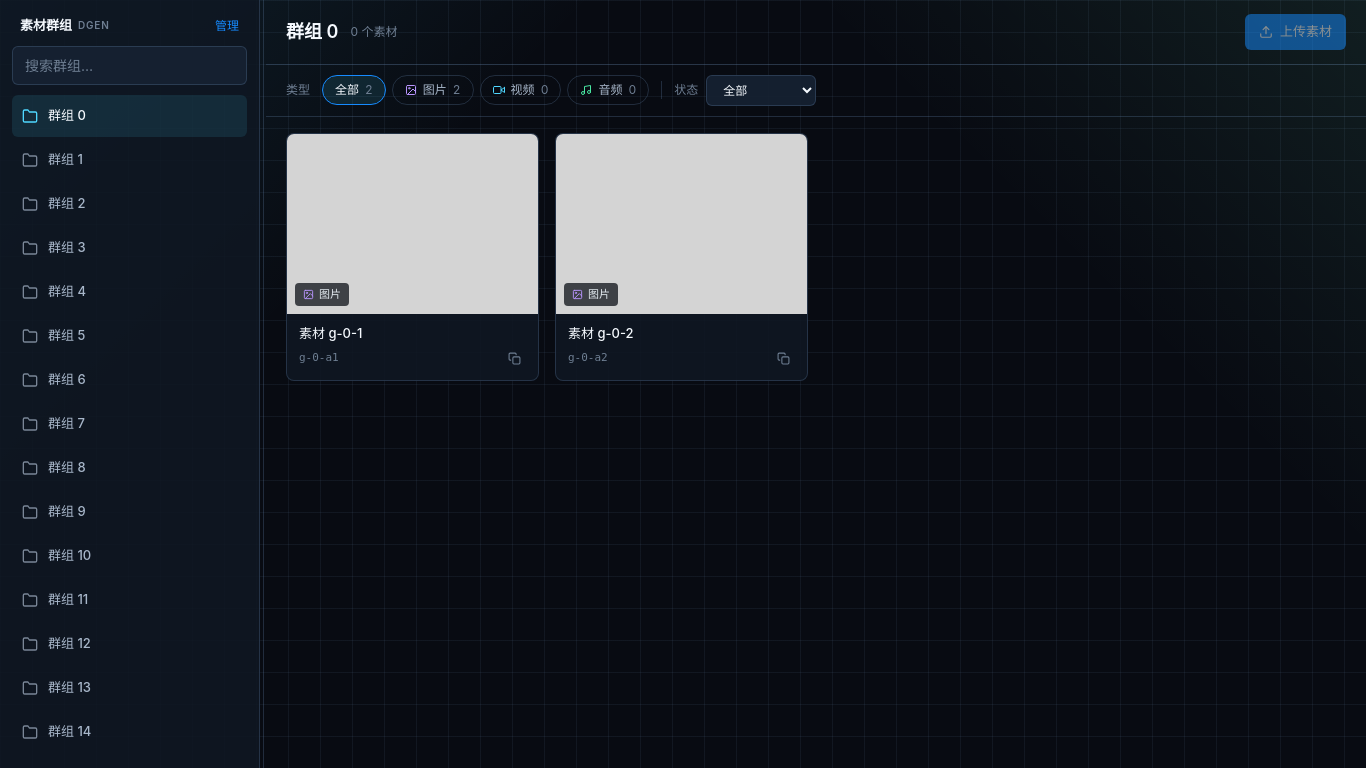
Test: server-side group search (>1000 groups) › a stale error banner + a zero-result search must not take over the page
The image size is (1366, 768).
Expected: the element with test id "group-row-g-0" is shown, x1=12 y1=94 x2=247 y2=136
In the search field labelled "搜索群组": (130, 65) x1=12 y1=46 x2=247 y2=84, type "567"
Wait 320 ms
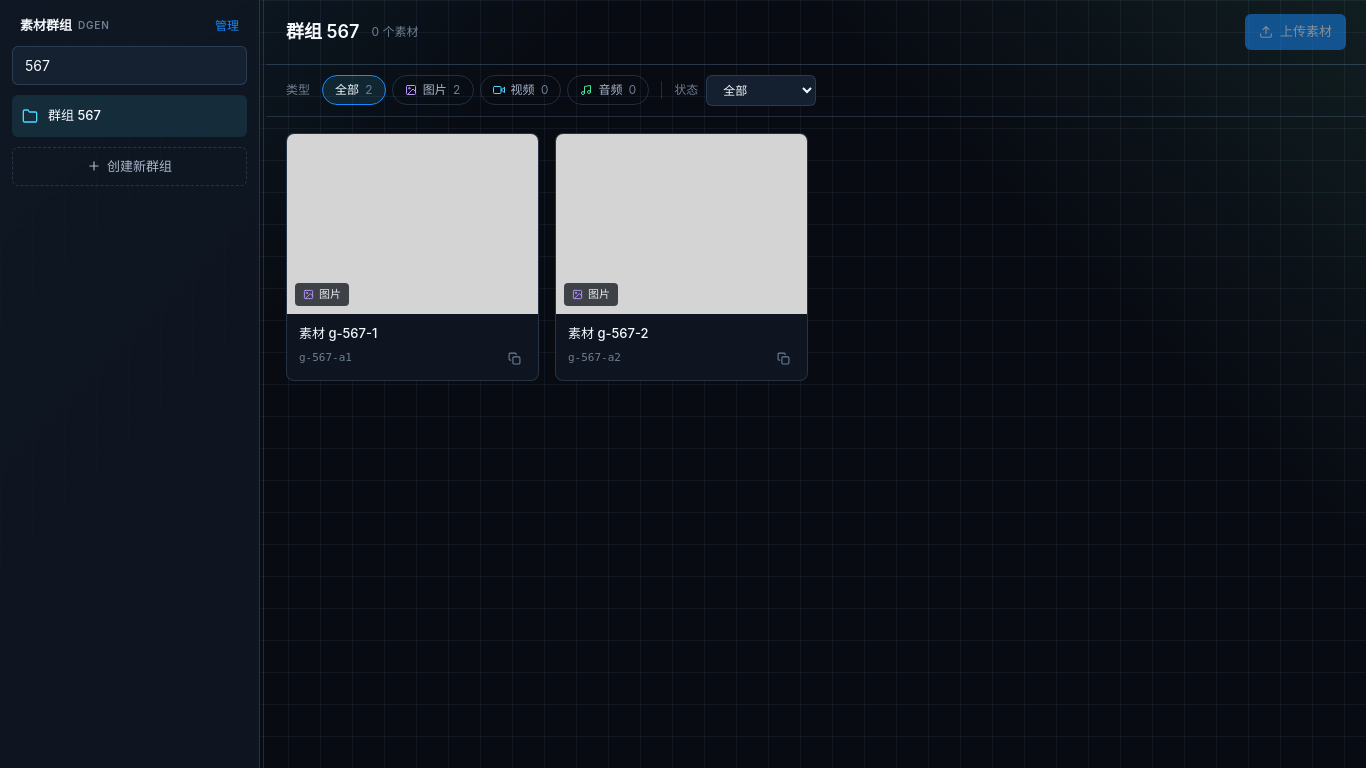
Expected: the element with test id "group-row-g-567" is shown, x1=12 y1=94 x2=247 y2=136
Clear the search field named "搜索群组": (130, 65) x1=12 y1=46 x2=247 y2=84
Wait 320 ms
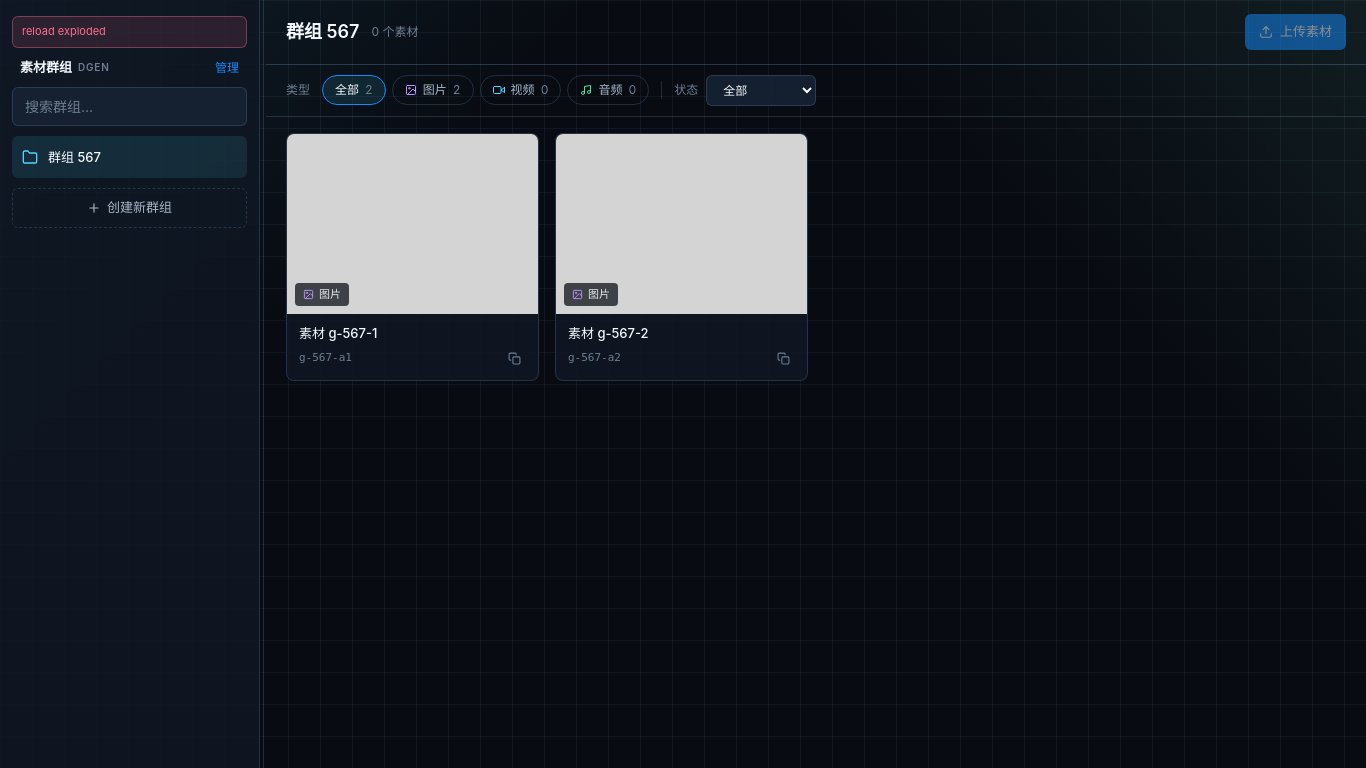
Expected: the text "reload exploded" is shown, x1=12 y1=16 x2=247 y2=48
In the search field labelled "搜索群组": (130, 107) x1=12 y1=87 x2=247 y2=126, type "没有这种群组"
Wait 320 ms
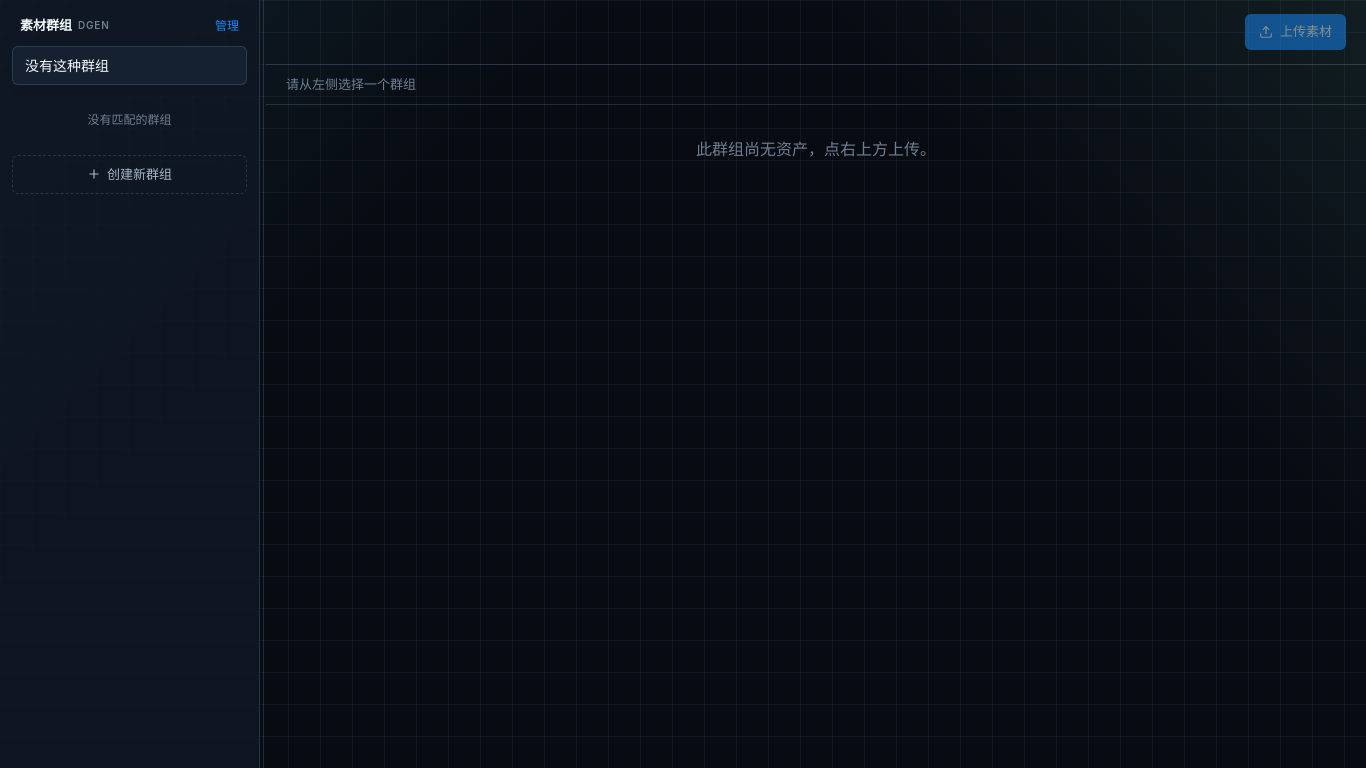
Expected: the element showing "素材群组 DGEN 管理 没有匹配的群组 创建新群组" is shown, x1=0 y1=0 x2=260 y2=767
Expected: the text "没有匹配的群组" is shown, x1=88 y1=112 x2=172 y2=126
Expected: the text "reload exploded" is gone
